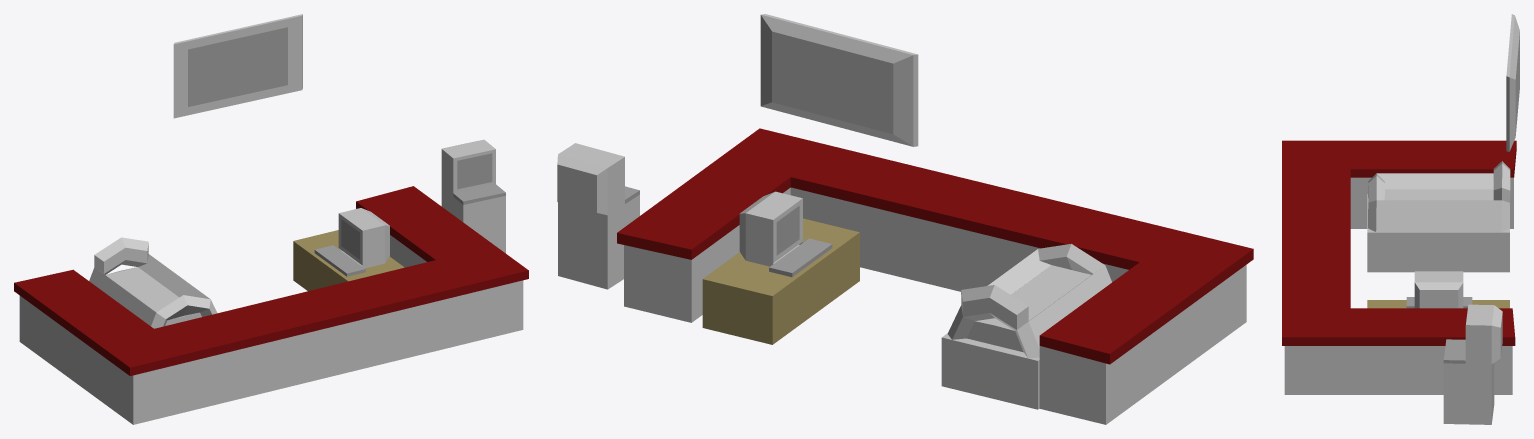
The model's file is little_pc.obj.
The picture shows the model from 3 angles, left to right: view 1: azimuth 30°, elevation 25°; view 2: azimuth 150°, elevation 25°; view 3: azimuth 270°, elevation 25°; orthographic projection. The views are drawn at different scales.
Visible parts, largest first — view 1: Cube.026, Cube_Cube.001, Cube.034, Cube.002_Cube.003, Cube.035, Cube.007_Cube.008, Cube.001_Cube.002, Cube.004_Cube.005, Cube.006_Cube.007, Cube.031, Cube.003_Cube.004, Cube.030 (+1 smaller); view 2: Cube.026, Cube_Cube.001, Cube.035, Cube.001_Cube.002, Cube.007_Cube.008, Cube.002_Cube.003, Cube.005_Cube.006, Cube.006_Cube.007, Cube.004_Cube.005, Cube.003_Cube.004, Cube.029; view 3: Cube.026, Cube_Cube.001, Cube.002_Cube.003, Cube.005_Cube.006, Cube.007_Cube.008, Cube.004_Cube.005, Cube.035, Cube.006_Cube.007, Cube.001_Cube.002, Cube.030.
Part boxes in pixels (box(x1,y1,x2,y2)): Cube.026: box(14, 186, 528, 375); Cube_Cube.001: box(19, 235, 523, 424); Cube.034: box(188, 27, 287, 106); Cube.002_Cube.003: box(89, 237, 217, 328); Cube.035: box(173, 14, 302, 118); Cube.007_Cube.008: box(441, 139, 505, 253); Cube.001_Cube.002: box(293, 230, 404, 290); Cube.004_Cube.005: box(338, 208, 389, 268); Cube.006_Cube.007: box(105, 267, 201, 325); Cube.031: box(457, 153, 492, 189); Cube.003_Cube.004: box(314, 245, 365, 276); Cube.030: box(453, 184, 505, 204); Cube.026: box(617, 128, 1253, 364); Cube_Cube.001: box(624, 187, 1246, 424); Cube.035: box(760, 14, 918, 146); Cube.001_Cube.002: box(702, 218, 859, 344); Cube.007_Cube.008: box(557, 143, 639, 289); Cube.002_Cube.003: box(947, 244, 1111, 358); Cube.005_Cube.006: box(941, 333, 1039, 409); Cube.006_Cube.007: box(966, 265, 1091, 352); Cube.004_Cube.005: box(739, 191, 802, 266); Cube.003_Cube.004: box(769, 238, 832, 277); Cube.029: box(776, 206, 799, 255); Cube.026: box(1282, 140, 1516, 345); Cube_Cube.001: box(1284, 177, 1513, 394); Cube.002_Cube.003: box(1368, 161, 1510, 232); Cube.005_Cube.006: box(1367, 194, 1509, 272); Cube.007_Cube.008: box(1443, 304, 1502, 424); Cube.004_Cube.005: box(1414, 271, 1463, 308); Cube.035: box(1506, 14, 1519, 152); Cube.006_Cube.007: box(1384, 189, 1493, 200); Cube.001_Cube.002: box(1367, 300, 1509, 308); Cube.030: box(1443, 339, 1465, 363).
Bounding box in the file's own units: 16.19 × 8.92 × 7.2.
